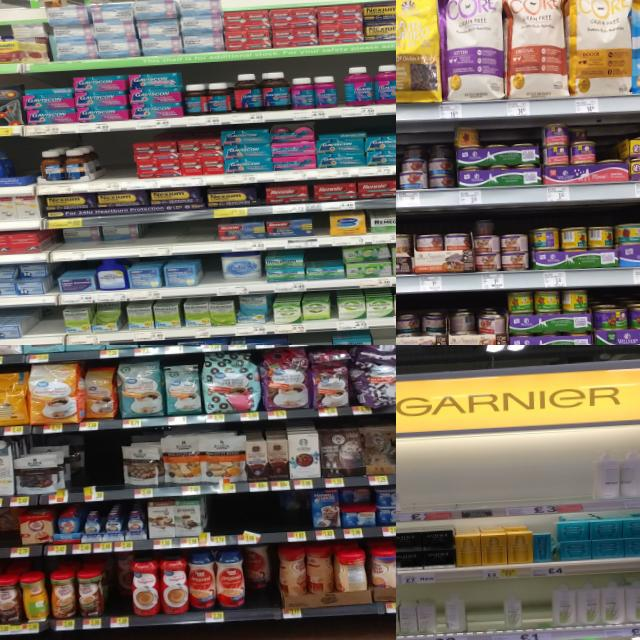100- O.O.S: (502, 462, 594, 516), (144, 220, 218, 256), (400, 478, 454, 522), (234, 492, 278, 544), (88, 433, 121, 500), (456, 471, 501, 519), (466, 583, 503, 640), (521, 580, 555, 640), (104, 138, 136, 191), (210, 496, 233, 546), (40, 306, 64, 345), (202, 254, 222, 296), (293, 333, 332, 345)
